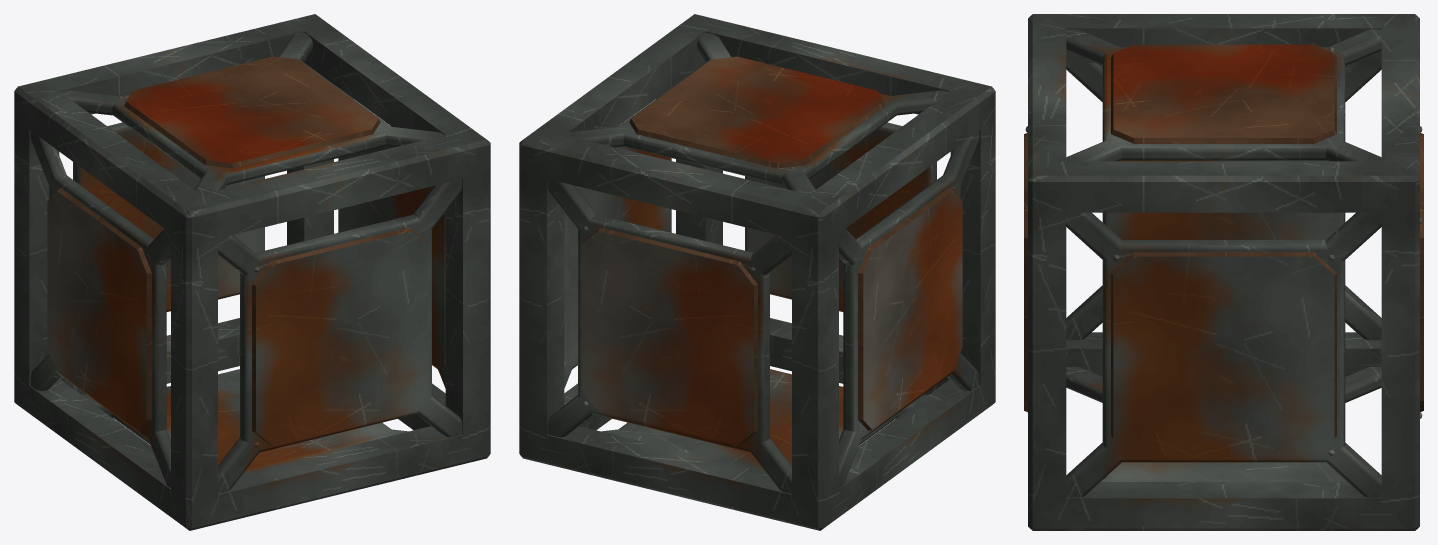
The model's file is R4B_TrussCube.glb.
3 renders of one model, left to right at view 1: azimuth 30°, elevation 25°; view 2: azimuth 150°, elevation 25°; view 3: azimuth 270°, elevation 25°, orthographic. The views are drawn at different scales.
Parts seen in each view (by area): view 1: R4B_TrussCube; view 2: R4B_TrussCube; view 3: R4B_TrussCube.
Boxes of the visible parts, x1,y1,x2,y2 form: R4B_TrussCube: (14, 14, 490, 530); R4B_TrussCube: (519, 14, 995, 530); R4B_TrussCube: (1024, 14, 1423, 530).
Size of the model in its own units: 0.52 by 0.52 by 0.52.
4 materials, 4 textured.
